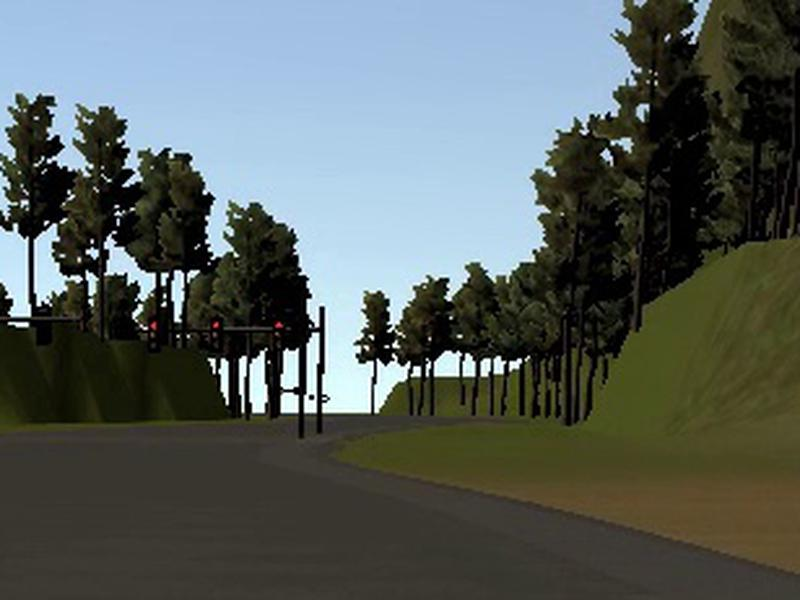Red: (270, 319, 286, 353), (147, 315, 161, 353), (211, 317, 222, 352)
